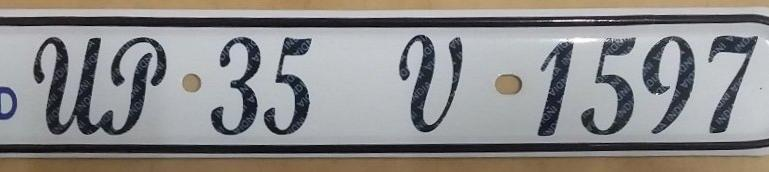1: (531, 28, 576, 147)
3: (208, 32, 263, 144)
5: (579, 28, 641, 145), (266, 24, 319, 137)
7: (704, 27, 760, 136)
9: (636, 28, 702, 141)
P: (107, 29, 177, 142)
U: (26, 27, 103, 141)
V: (391, 29, 466, 140)
